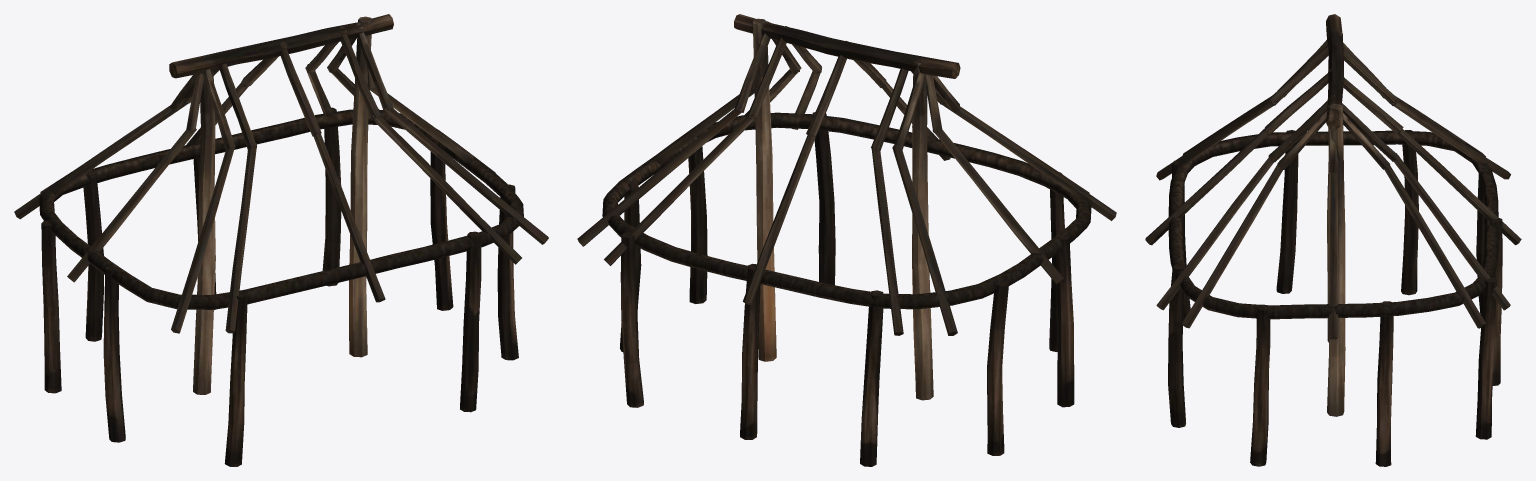
File: family_hall_posts.gltf
3 renders of one model, left to right at view 1: azimuth 30°, elevation 25°; view 2: azimuth 150°, elevation 25°; view 3: azimuth 270°, elevation 25°, orthographic. The views are drawn at different scales.
Parts seen in each view (by area): view 1: family_hall_posts; view 2: family_hall_posts; view 3: family_hall_posts.
Part boxes in pixels (x1,y1,x2,y2): family_hall_posts: (14, 14, 548, 466); family_hall_posts: (577, 14, 1116, 466); family_hall_posts: (1145, 14, 1521, 466).
Size of the model in its own units: 4.26 by 3.21 by 3.48.
2 materials, 2 textured.
